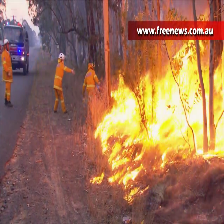fire_h: (94, 41, 224, 202), (108, 166, 146, 184), (124, 185, 151, 202)
fire_l: (90, 172, 104, 185)
